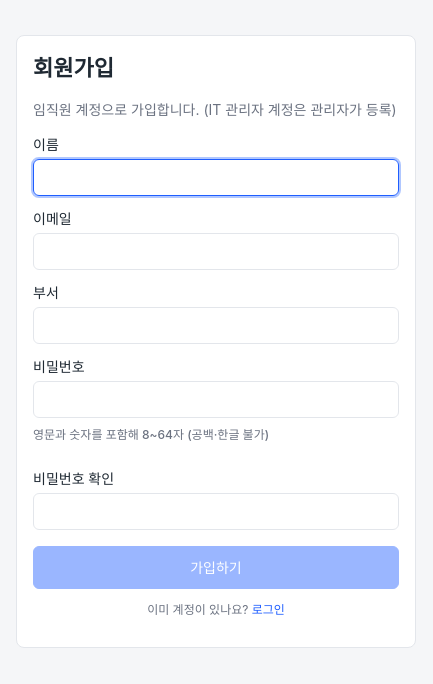
회원가입 화면 › 비밀번호 확인이 다르면 안내하고 가입할 수 없다
The width and height of the screenshot is (433, 684).
In the field labelled "이름": {"x": 216, "y": 177} [33,158,399,196], type "신입"
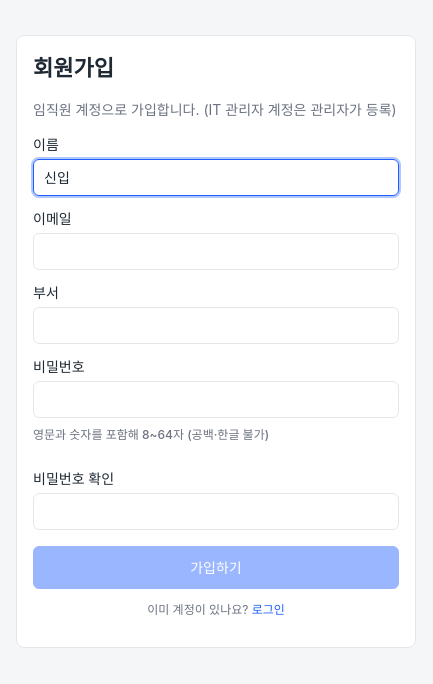
In the field labelled "이메일": {"x": 216, "y": 251} [33,232,399,270], type "new@daon.example"
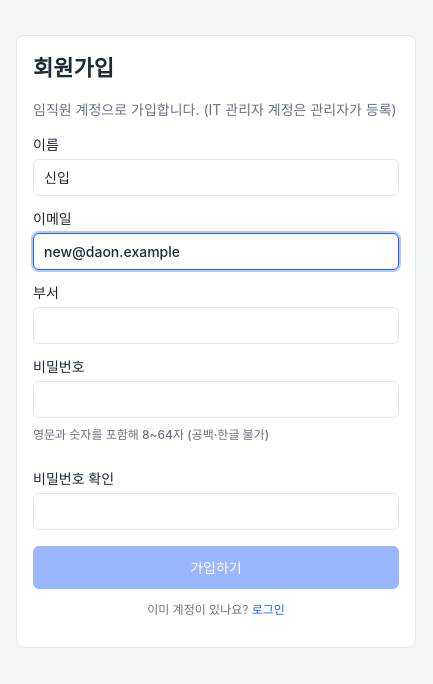
In the password field labelled "비밀번호": {"x": 216, "y": 399} [33,380,399,418], type "password1"
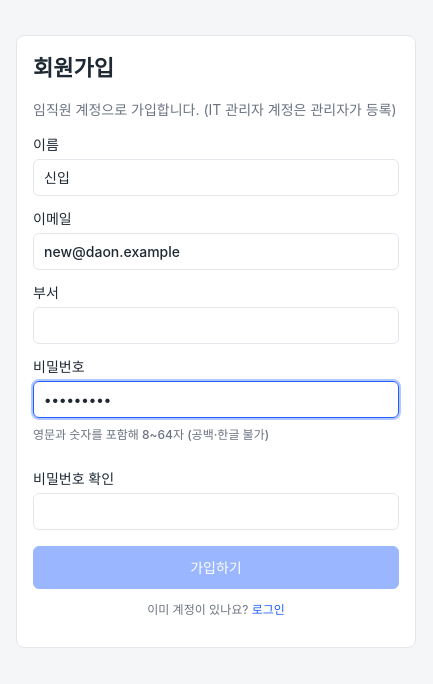
In the password field labelled "비밀번호 확인": {"x": 216, "y": 511} [33,492,399,530], type "password2"
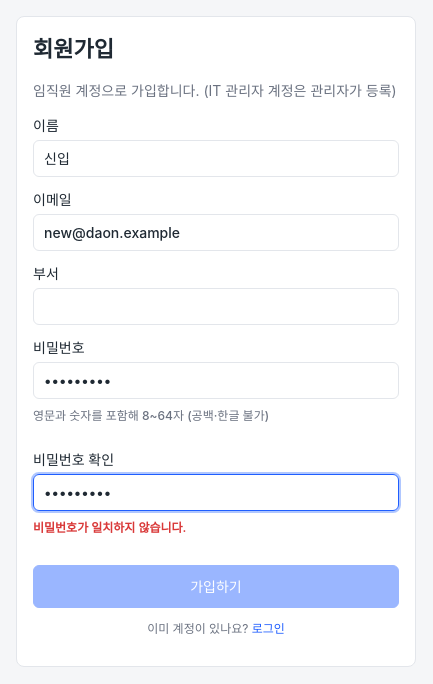
Expected: the button "가입하기" is disabled, [33,564,399,608]
Now the text "비밀번호가 일치하지 않습니다." is shown, box [33,520,186,534]
